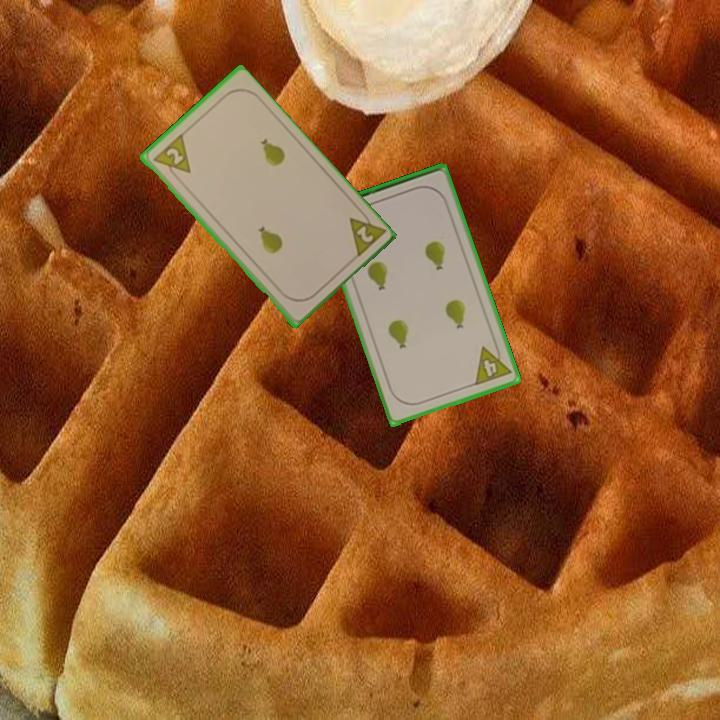2p: (345, 205, 387, 261), (149, 131, 193, 183)
4p: (471, 339, 514, 388)
